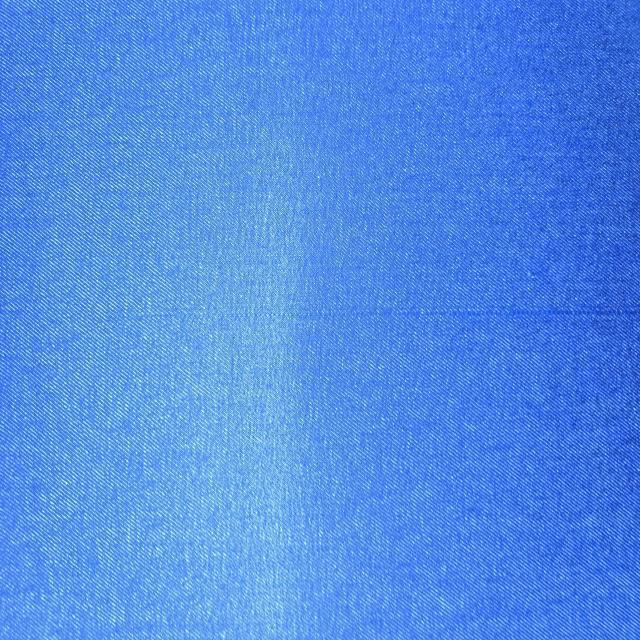Line: (30, 302, 636, 324)
